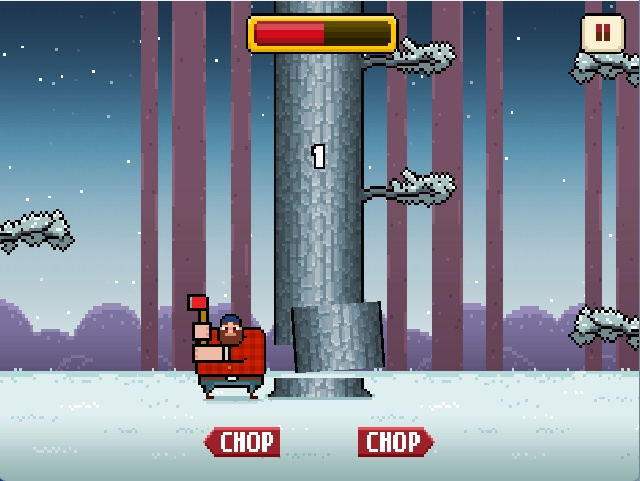right_obs: (354, 163, 465, 216)
timberman: (184, 281, 269, 400)
